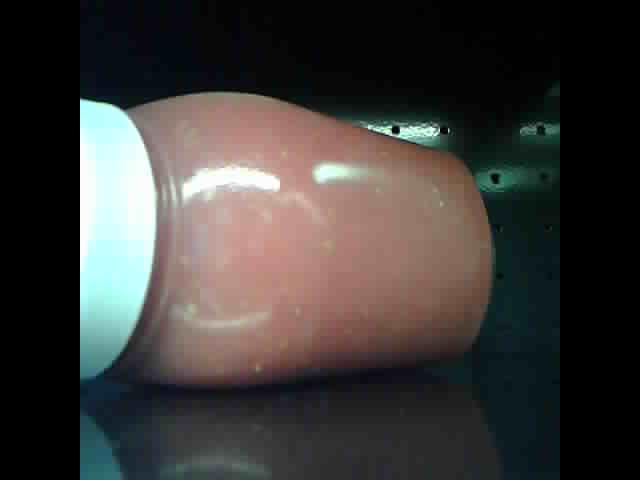tomate: (80, 90, 496, 392)
